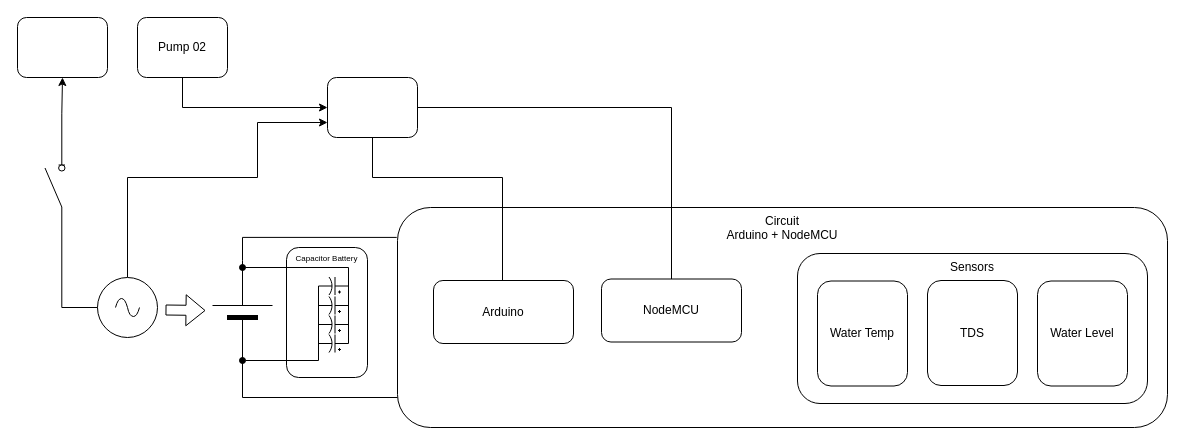
This 1185x445 diagram has some shape labels left out. The centre of each missing label's shape, as x and y in pixels:
"Pump 01" goes at (x=62, y=47).
"Releay" goes at (x=372, y=107).
